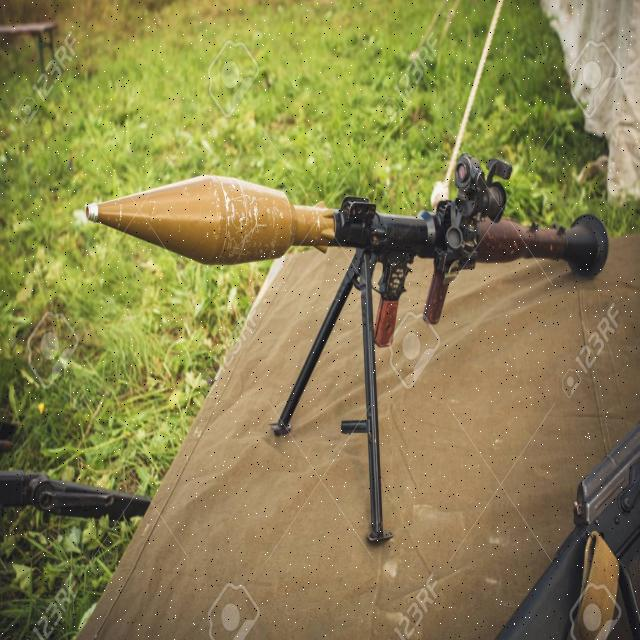bazooka: (80, 142, 611, 548)
